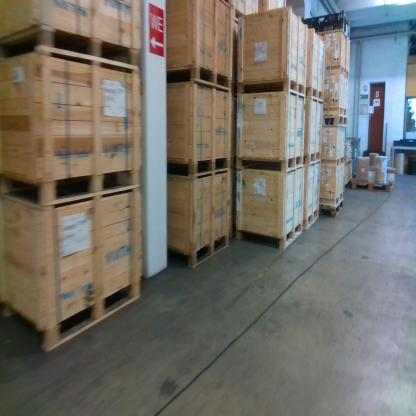pallet: (351, 176, 391, 195), (319, 196, 345, 220), (323, 114, 348, 132), (343, 180, 353, 194)
stillage: (289, 7, 352, 36), (345, 134, 361, 181)
